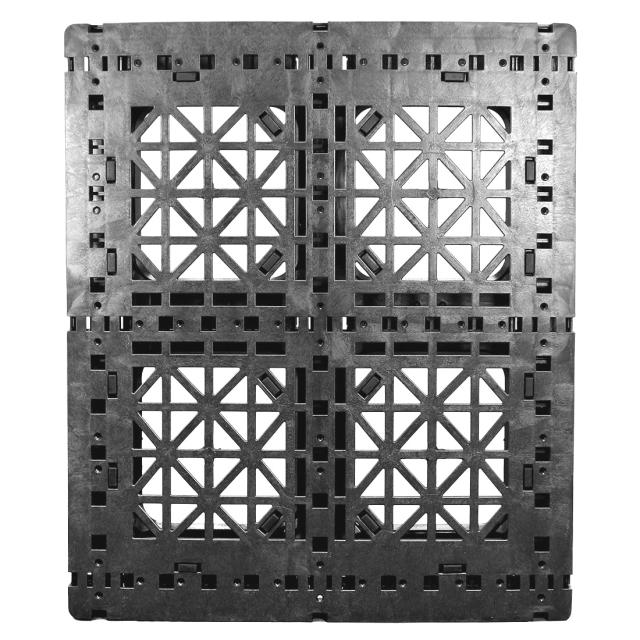non-igps: (48, 12, 591, 631)
